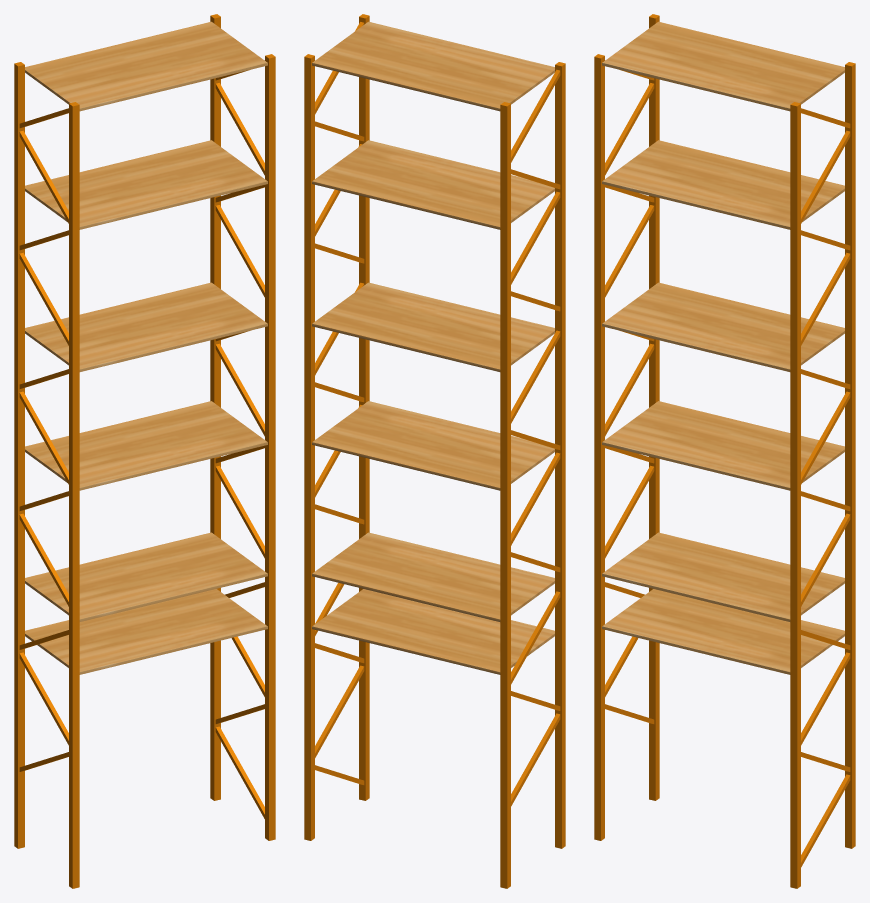
File: Industrial_Rack_04.fbx
The picture shows the model from 3 angles, left to right: view 1: azimuth 30°, elevation 25°; view 2: azimuth 150°, elevation 25°; view 3: azimuth 330°, elevation 25°; orthographic projection.
Parts seen in each view (by area): view 1: Industrial_Rack_04; view 2: Industrial_Rack_04; view 3: Industrial_Rack_04.
Part boxes in pixels (x1=…): Industrial_Rack_04: x1=14, y1=14, x2=275, y2=888; Industrial_Rack_04: x1=304, y1=14, x2=565, y2=888; Industrial_Rack_04: x1=594, y1=14, x2=855, y2=888.
Size of the model in its own units: 2 by 7.37 by 1.
